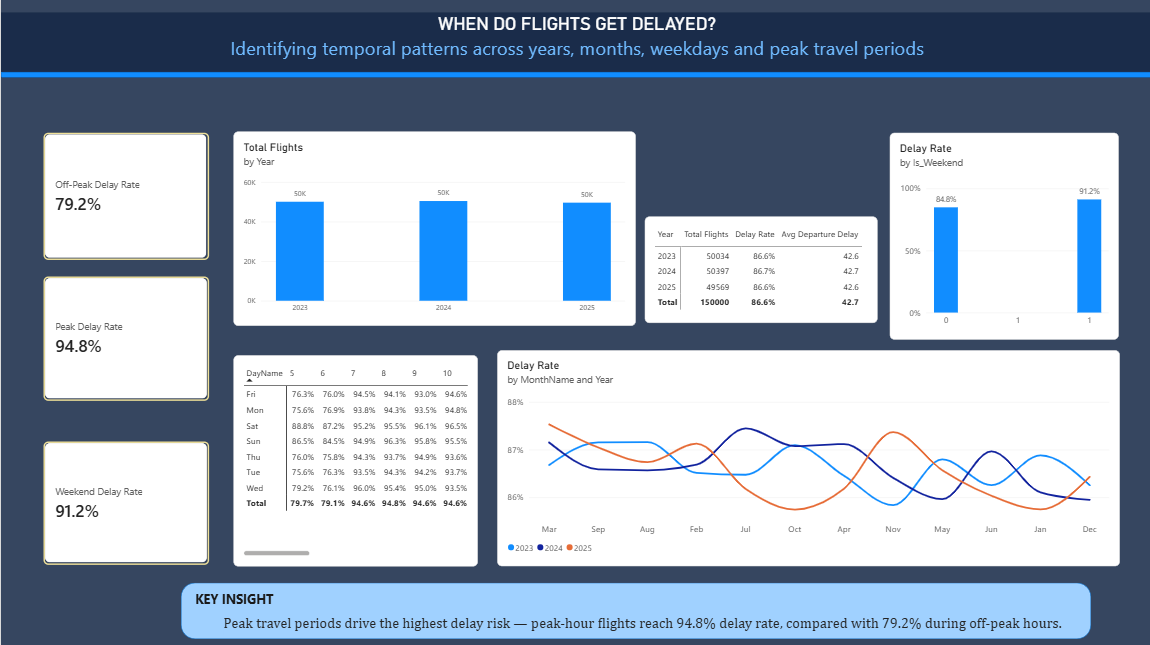

Layout of this report page (visuals, bound fields, positions):
{"tool":"powerbi","page":{"name":"Trends & Timing","canvas":[1920,1080],"ordinal":1},"visuals":[{"type":"shape","title":"WHEN DO FLIGHTS GET DELAYED?","box":[0,22.9,1920.8,108.3],"z":0},{"type":"pivotTable","fields":{"Rows":["DateTable.Year"],"Values":["indian-flight-delay-analysis.Total Flights","indian-flight-delay-analysis.Delay Rate","indian-flight-delay-analysis.Avg Departure Delay"]},"box":[1073.5,363.3,387.8,177.6],"z":1000},{"type":"lineChart","fields":{"Category":["DateTable.MonthName"],"Series":["DateTable.Year"],"Y":["indian-flight-delay-analysis.Delay Rate"]},"box":[827.4,584.6,1037.4,360.2],"z":2000},{"type":"columnChart","fields":{"Category":["indian-flight-delay-analysis.Is_Weekend"],"Y":["indian-flight-delay-analysis.Delay Rate"]},"box":[1481.6,222.4,381.6,344.9],"z":3000},{"type":"cardVisual","fields":{"Data":["indian-flight-delay-analysis.Off-Peak Delay Rate"]},"box":[71.4,222.4,275.8,212],"z":4000},{"type":"cardVisual","fields":{"Data":["indian-flight-delay-analysis.Peak Delay Rate"]},"box":[71.4,463.3,276,207.5],"z":5000},{"type":"cardVisual","fields":{"Data":["indian-flight-delay-analysis.Weekend Delay Rate"]},"box":[71.4,736.7,276,205.5],"z":6000},{"type":"columnChart","fields":{"Category":["DateTable.Year"],"Y":["indian-flight-delay-analysis.Total Flights"]},"box":[387.1,221.4,670,324.3],"z":7000},{"type":"pivotTable","fields":{"Columns":["indian-flight-delay-analysis.Scheduled_Departure_Hour"],"Rows":["indian-flight-delay-analysis.DayName"],"Values":["indian-flight-delay-analysis.Delay Rate"]},"box":[387,592.8,407.5,352],"z":8000},{"type":"shape","box":[300,972.9,1516.7,93.8],"z":9000},{"type":"textbox","box":[370,1025,1436,35],"z":10000}]}

Visuals, with their boxes in screenshot pixels (x1, y1, x2, y2), scaled from the page's 1920x1080 canvas onto the 1150x645 screenshot:
"WHEN DO FLIGHTS GET DELAYED?" shape: select_region(0, 14, 1149, 78)
pivotTable - DateTable.Year x indian-flight-delay-analysis.Total Flights: select_region(643, 217, 875, 323)
lineChart - DateTable.MonthName x DateTable.Year: select_region(496, 349, 1117, 564)
columnChart - indian-flight-delay-analysis.Is_Weekend x indian-flight-delay-analysis.Delay Rate: select_region(887, 133, 1116, 339)
cardVisual - indian-flight-delay-analysis.Off-Peak Delay Rate: select_region(43, 133, 208, 259)
cardVisual - indian-flight-delay-analysis.Peak Delay Rate: select_region(43, 277, 208, 401)
cardVisual - indian-flight-delay-analysis.Weekend Delay Rate: select_region(43, 440, 208, 563)
columnChart - DateTable.Year x indian-flight-delay-analysis.Total Flights: select_region(232, 132, 633, 326)
pivotTable - indian-flight-delay-analysis.Scheduled_Departure_Hour x indian-flight-delay-analysis.DayName: select_region(232, 354, 476, 564)
shape: select_region(180, 581, 1088, 637)
textbox: select_region(222, 612, 1082, 633)
